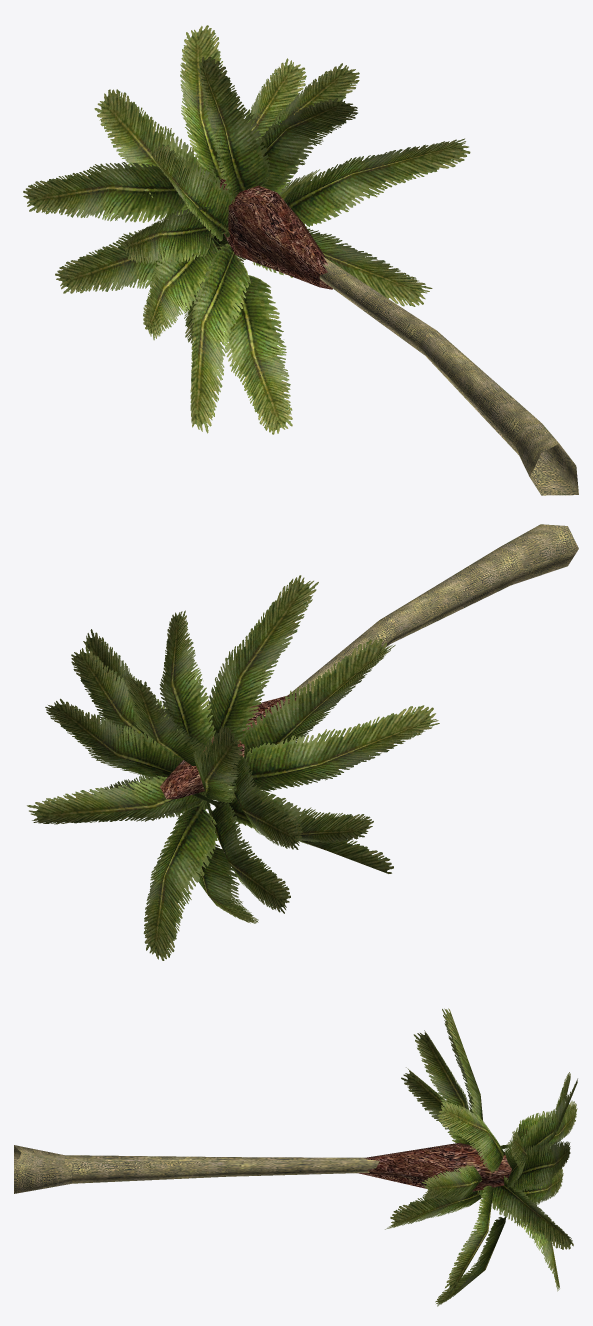
File: palm_date_a.glb
3 renders of one model, top to bottom at view 1: azimuth 30°, elevation 25°; view 2: azimuth 150°, elevation 25°; view 3: azimuth 270°, elevation 25°, orthographic. The views are drawn at different scales.
Size of the model in its own units: 9.75 by 10.05 by 18.43.
1 material, 1 textured.
